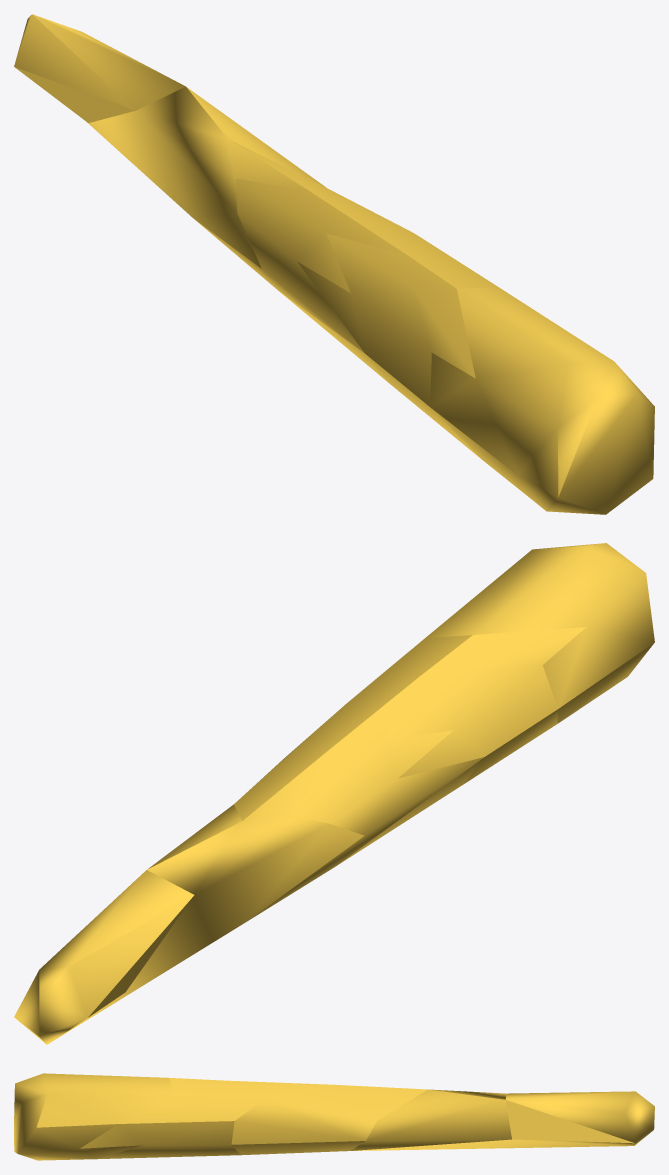
File: bat.fbx
The picture shows the model from 3 angles, top to bottom: view 1: azimuth 30°, elevation 25°; view 2: azimuth 150°, elevation 25°; view 3: azimuth 270°, elevation 25°; orthographic projection. The views are drawn at different scales.
Visible parts, largest first — view 1: bat; view 2: bat; view 3: bat.
Part boxes in pixels (box(x1,y1,x2,y2)): bat: box(14, 14, 654, 514); bat: box(14, 543, 654, 1044); bat: box(14, 1073, 654, 1160).
Bounding box in the file's own units: 11.06 × 11.02 × 77.72.
